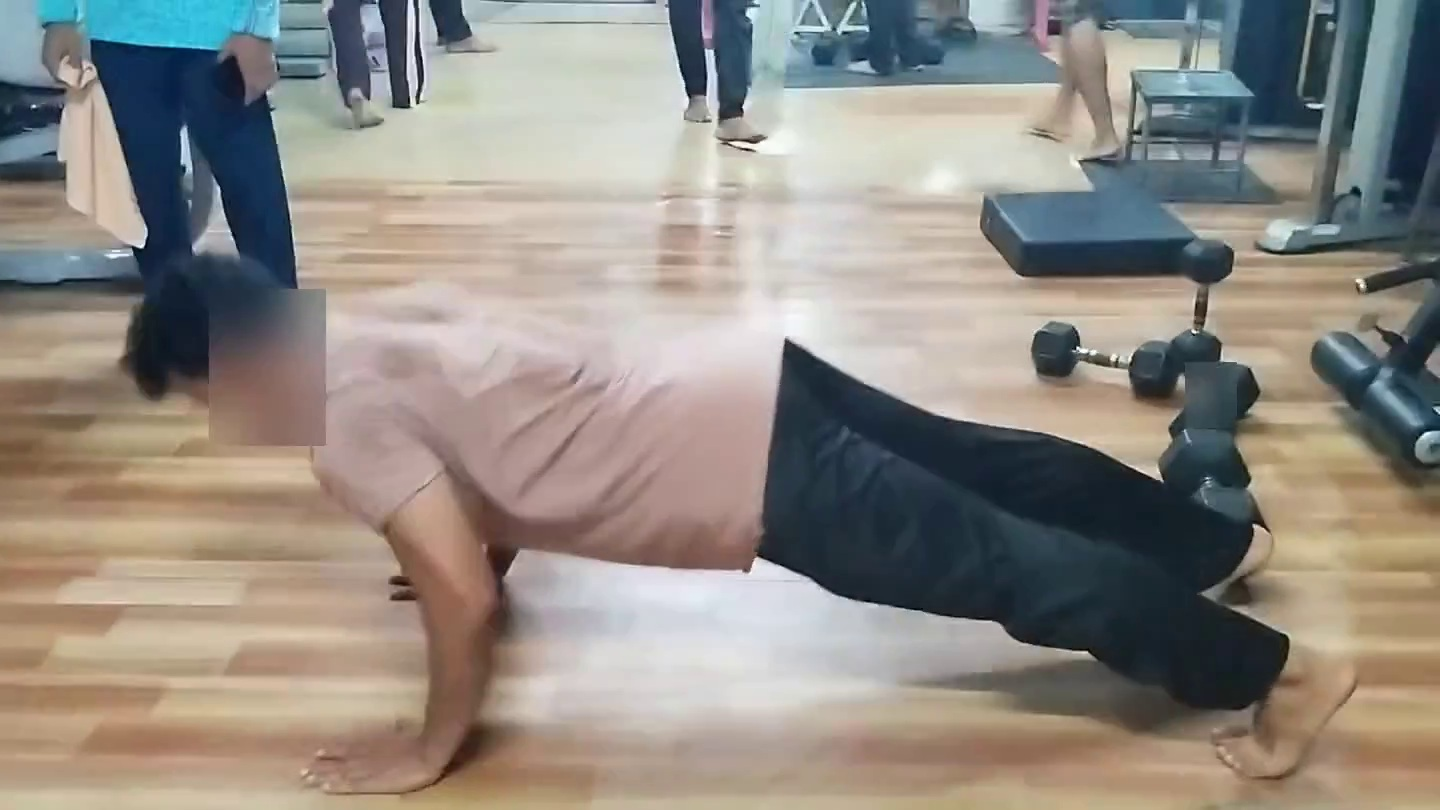push_up_correct: (75, 244, 1440, 810)
